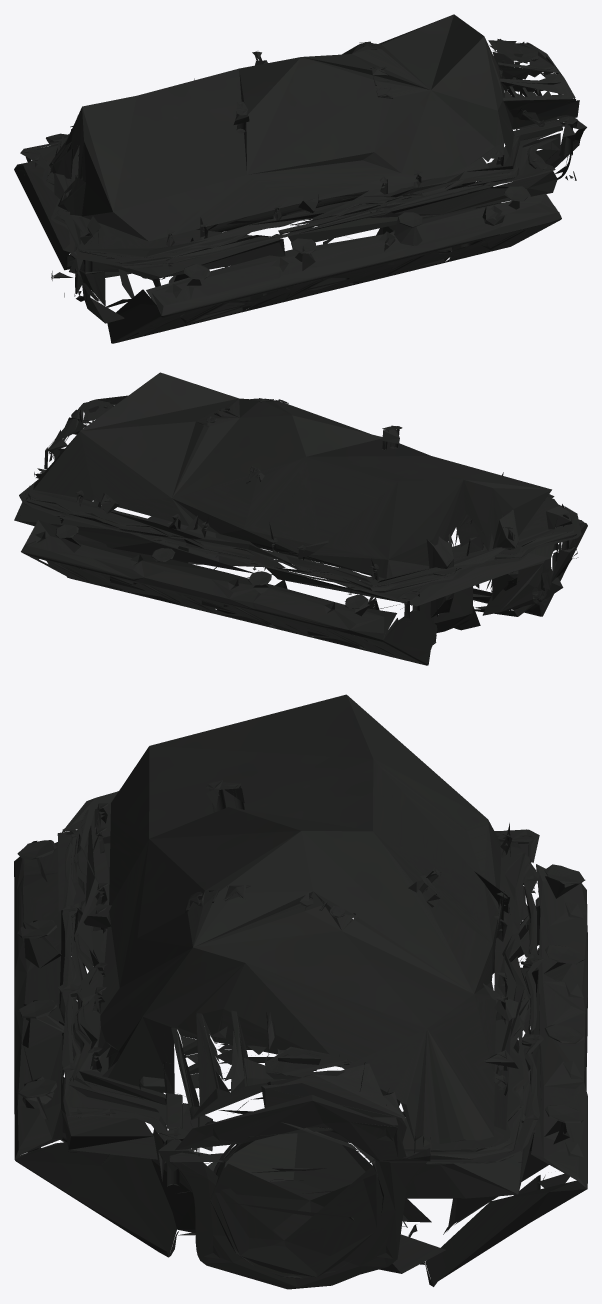
The model's file is fuelSystem_intake_manifold_e01.glb.
3 renders of one model, top to bottom at view 1: azimuth 30°, elevation 25°; view 2: azimuth 150°, elevation 25°; view 3: azimuth 270°, elevation 25°, orthographic. The views are drawn at different scales.
Visible parts, largest first — view 1: geometry_0; view 2: geometry_0; view 3: geometry_0.
Boxes of the visible parts, x1,y1,x2,y2 form: geometry_0: [14, 14, 586, 343]; geometry_0: [14, 372, 587, 665]; geometry_0: [14, 694, 587, 1289].
Size of the model in its own units: 0.42 by 0.1536 by 0.2639.
1 material, 1 textured.
